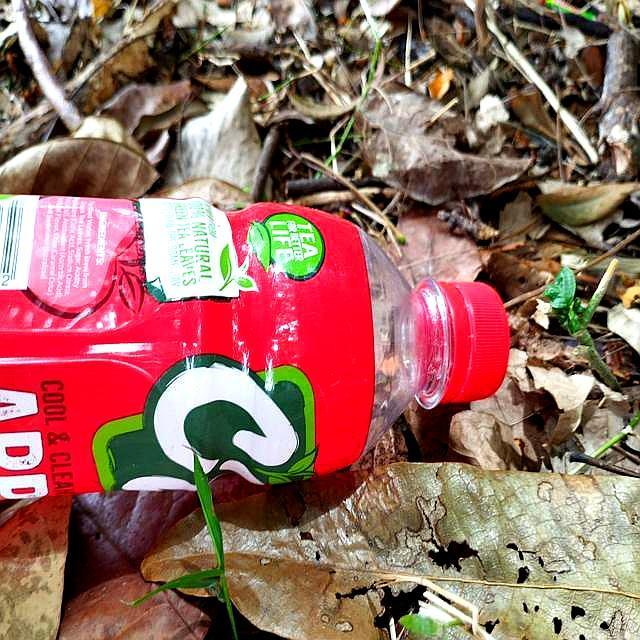Non-biodegradable: (2, 193, 512, 504)
